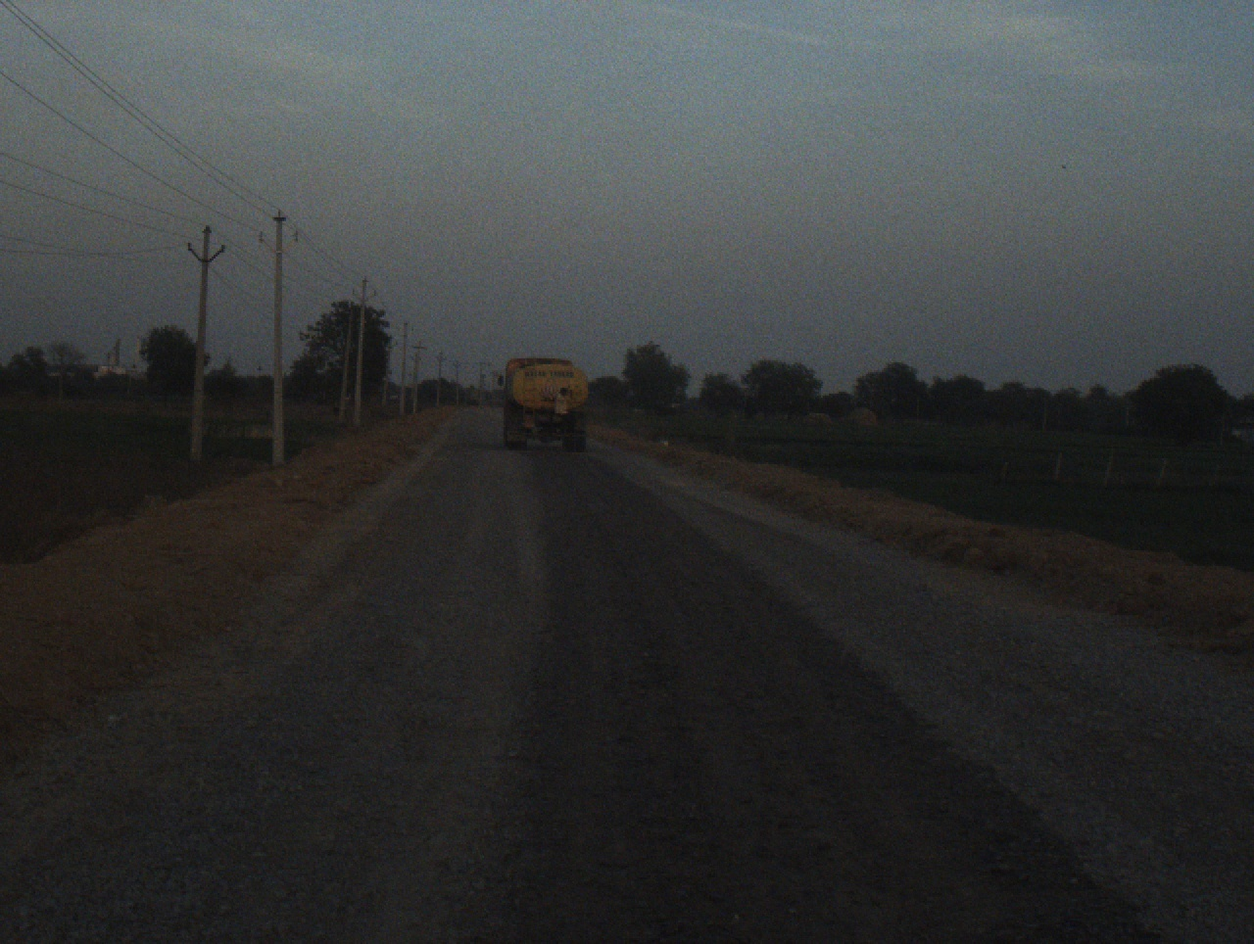rider: (551, 381, 574, 436)
truck: (492, 354, 596, 461)
